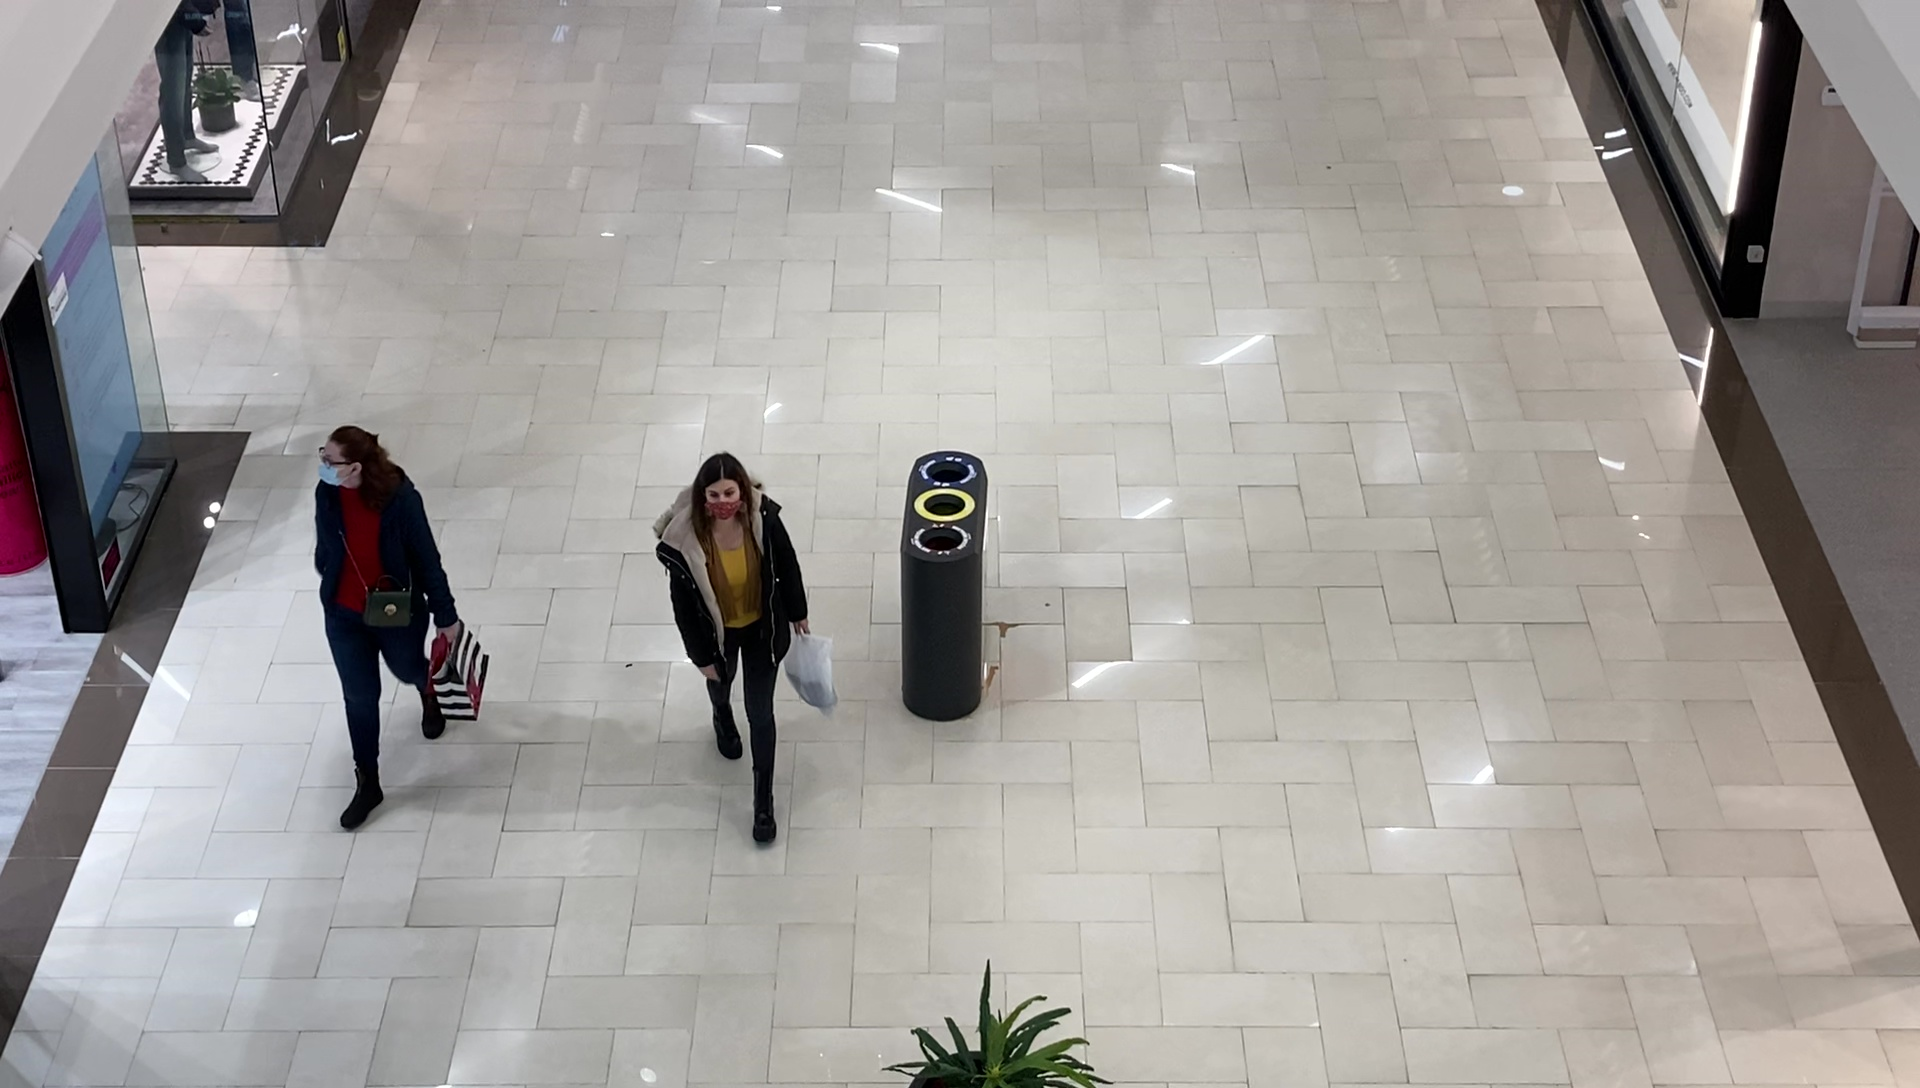person: (652, 452, 810, 845), (312, 426, 460, 831)
